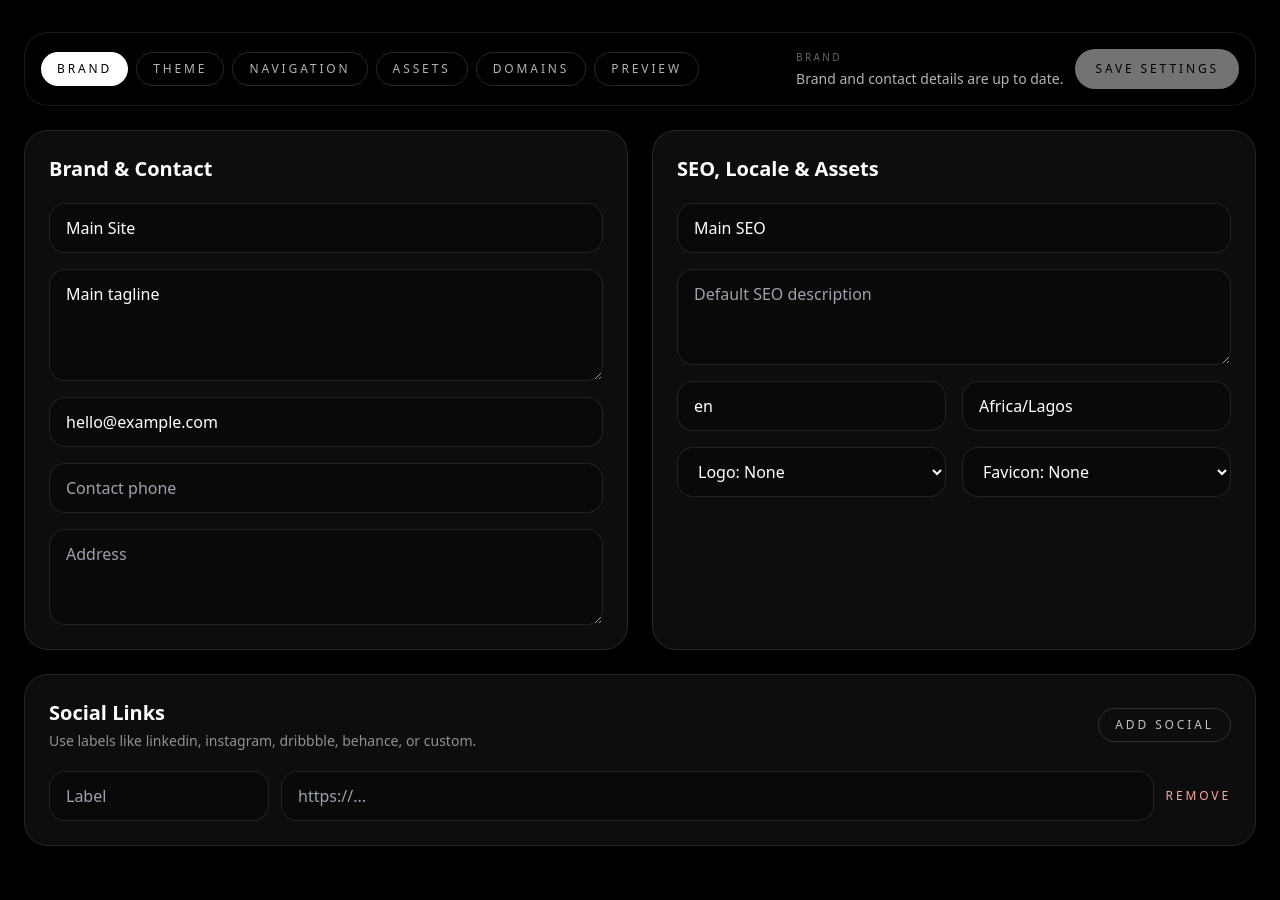
Test: SiteSettingsAdmin › shows blocked primary action for unverified custom domains
Expected: the 1st field showing "Main Site" is shown, [49,203,603,253]
Click the button "Domains" at (531, 69), box [476,52,586,86]
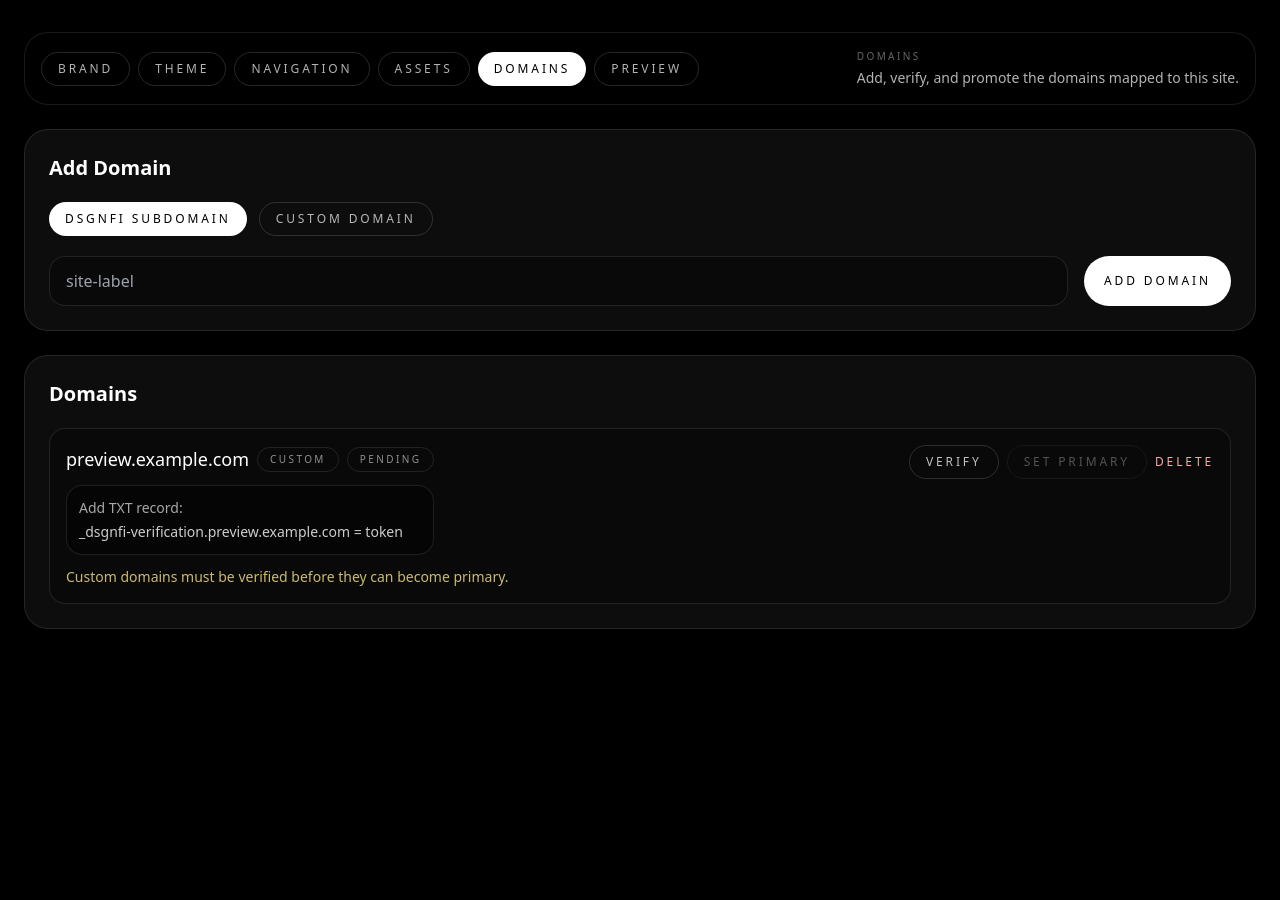
Expected: the text "Custom domains must be verified before they can become primary." is shown, [66,567,508,586]
